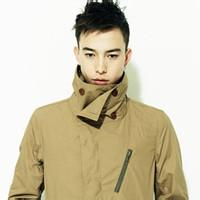face: (78, 27, 125, 90)
